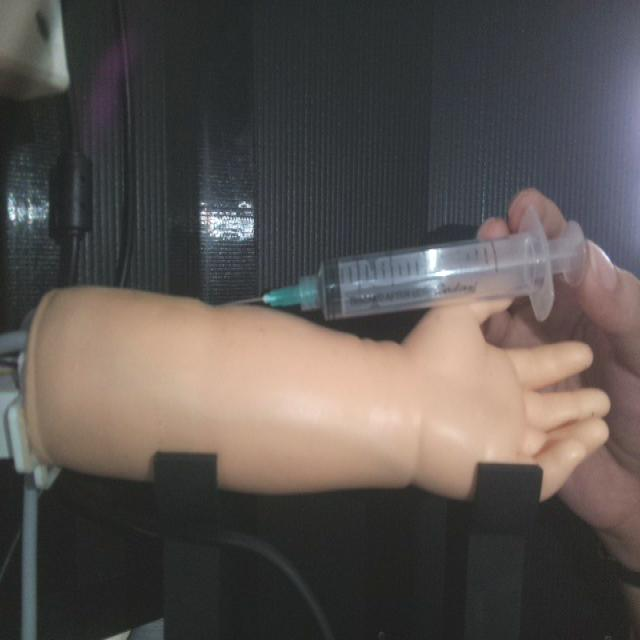Below 15 degrees: (230, 208, 589, 324)
